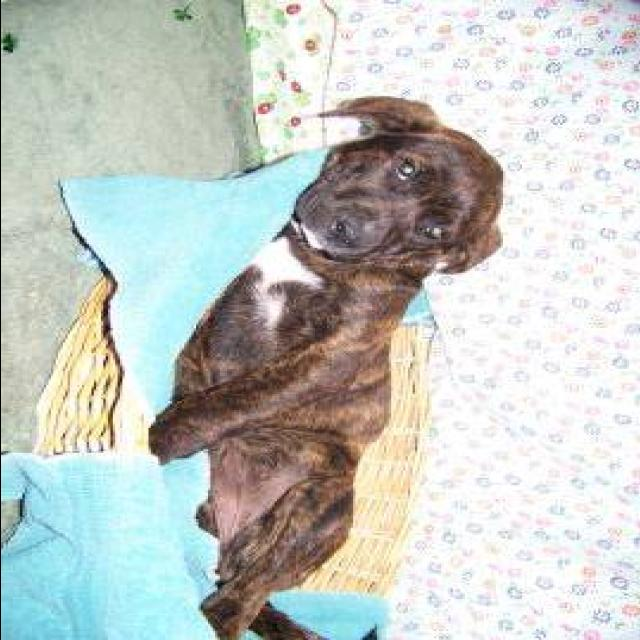dog: (86, 82, 550, 640)
